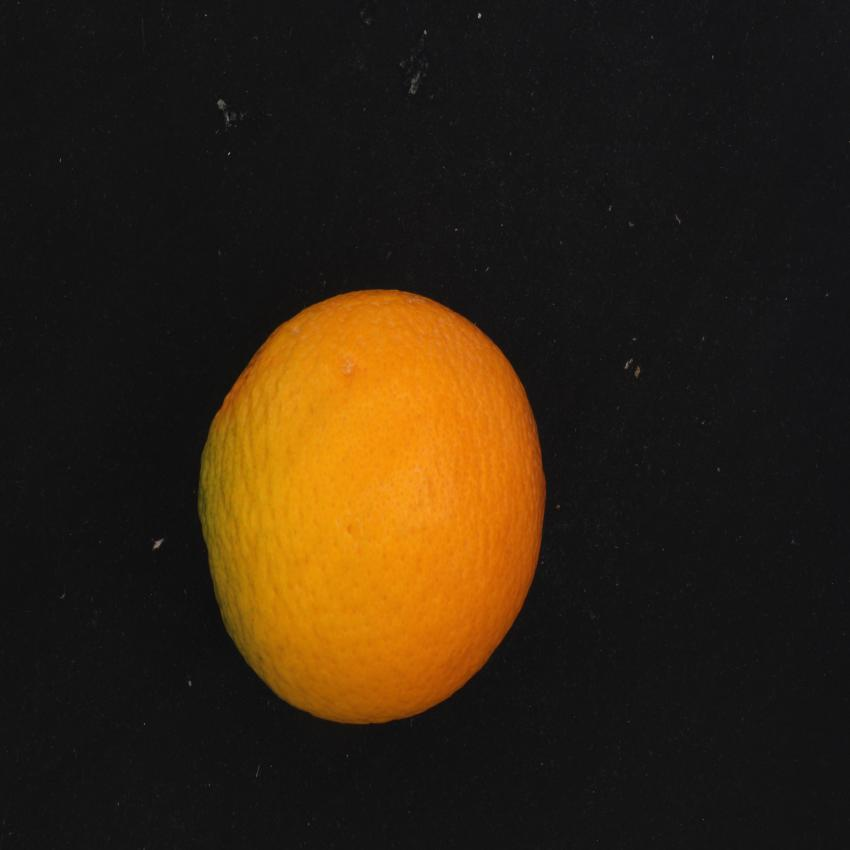Buen estado: (183, 263, 562, 749)
